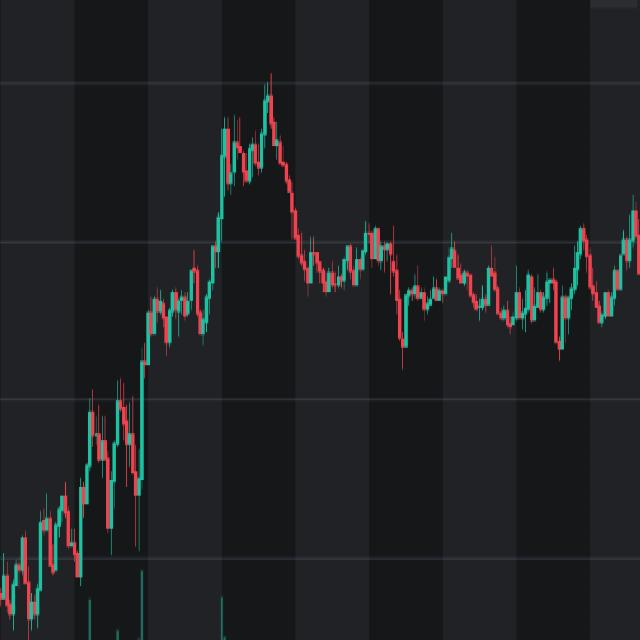Resistance-breakout: (132, 65, 272, 360)
